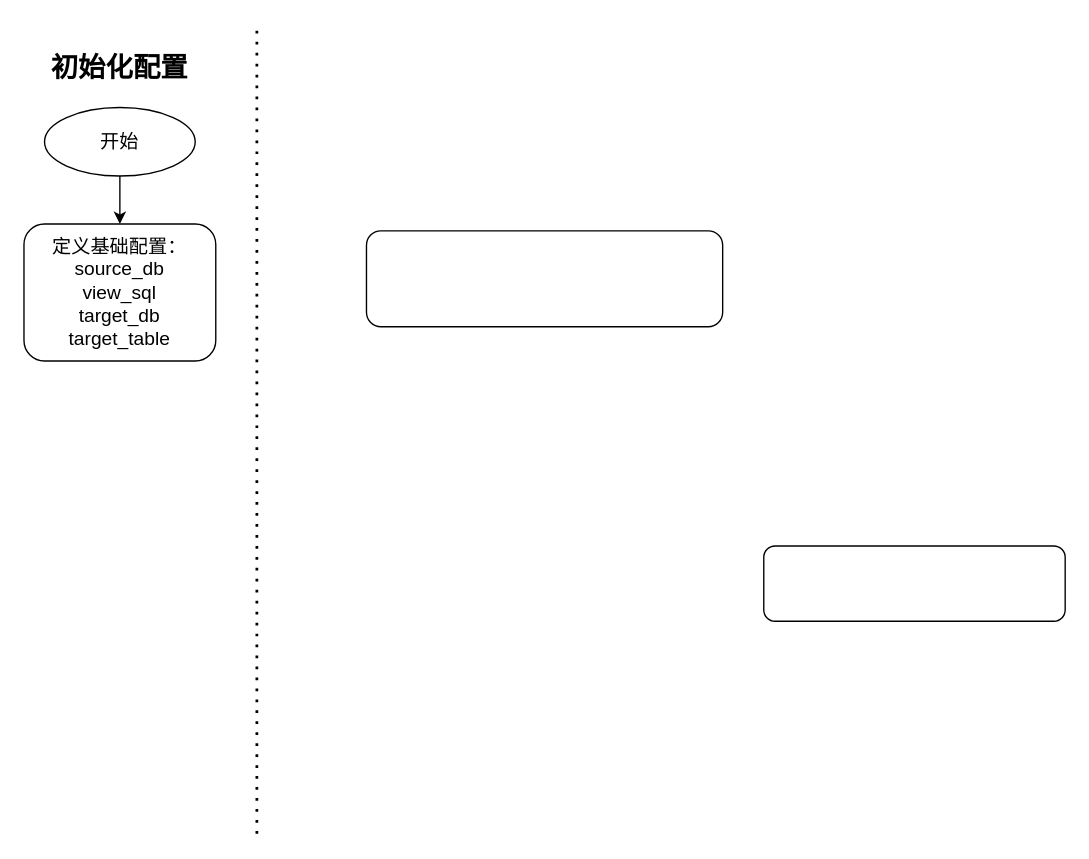
Image size: 1089x859. Some labels were removed from this diagram. Each missing label, with the centre of its shape:
"在source_db根据view_sql 通过create table as sql语句 创建影子表" goes at pixel 544 278.
"执行 insert overwrite sql into 影子表" goes at pixel 913 583.
